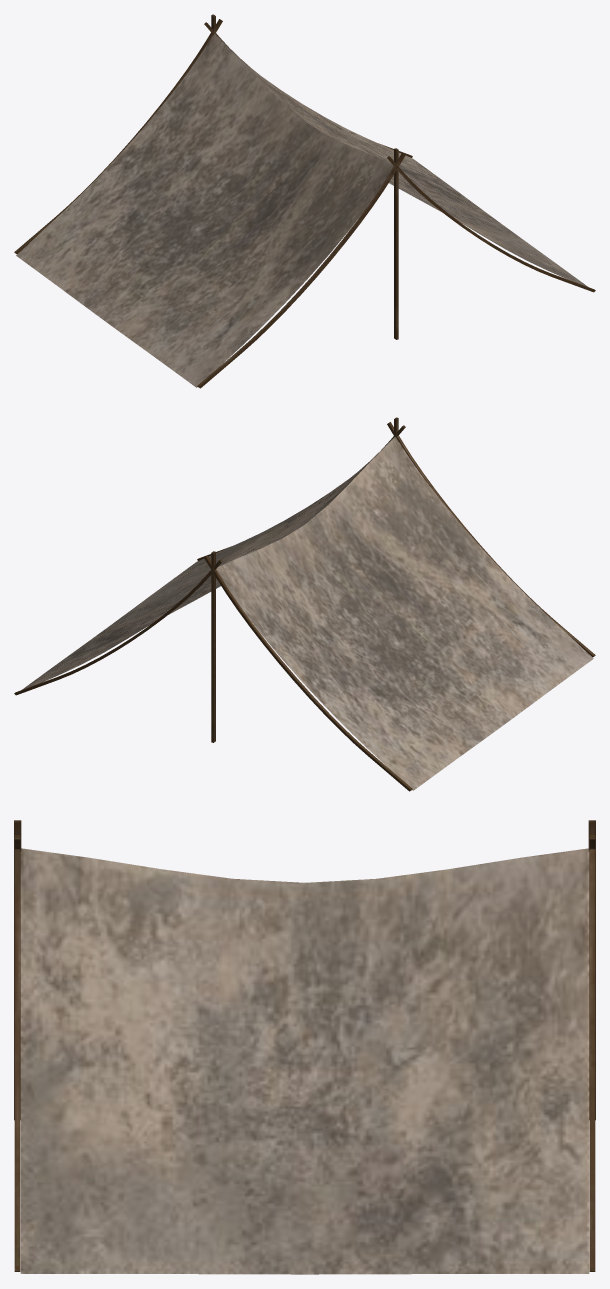
The model's file is SM_tent_02.glb.
The picture shows the model from 3 angles, top to bottom: view 1: azimuth 30°, elevation 25°; view 2: azimuth 150°, elevation 25°; view 3: azimuth 270°, elevation 25°; orthographic projection. The views are drawn at different scales.
Visible parts, largest first — view 1: SM_tent_02; view 2: SM_tent_02; view 3: SM_tent_02.
Part boxes in pixels (x1,y1,x2,y2): SM_tent_02: [14, 14, 595, 388]; SM_tent_02: [14, 417, 595, 791]; SM_tent_02: [14, 820, 595, 1274].
Bounding box in the file's own units: 4.41 × 2.03 × 3.56.
1 material, 1 textured.
